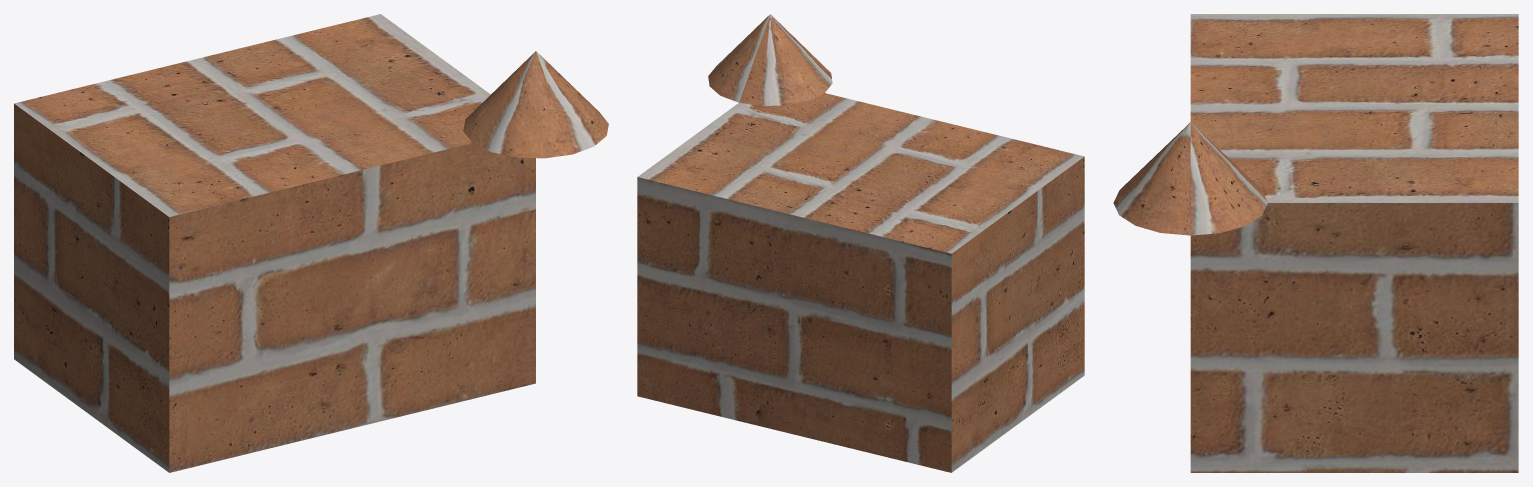
The picture shows the model from 3 angles, left to right: view 1: azimuth 30°, elevation 25°; view 2: azimuth 150°, elevation 25°; view 3: azimuth 270°, elevation 25°; orthographic projection. The views are drawn at different scales.
Parts seen in each view (by area): view 1: Node; view 2: Node; view 3: Node.
Part boxes in pixels (bbox=[...]): Node: bbox=[14, 14, 608, 472]; Node: bbox=[637, 14, 1084, 472]; Node: bbox=[1113, 14, 1518, 472].
Size of the model in its own units: 17.6 by 13 by 13.6.
Materials: 1 (1 with a texture image).
